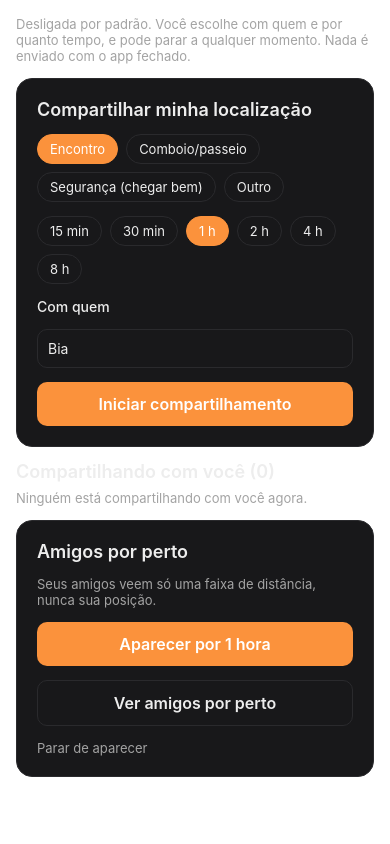
amigos por perto mostram só faixa de distância
This screenshot has width=390, height=844.
Click the button "Ver amigos por perto": (195, 703) [37,680,353,726]
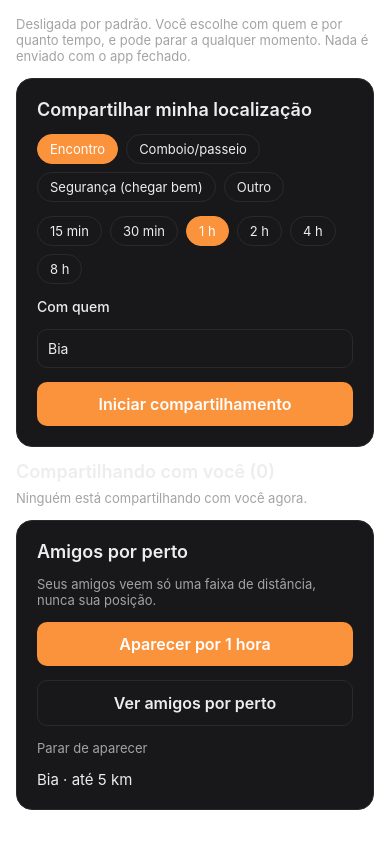
Now the text "Bia · até 5 km" is shown, box [37,770,132,789]
